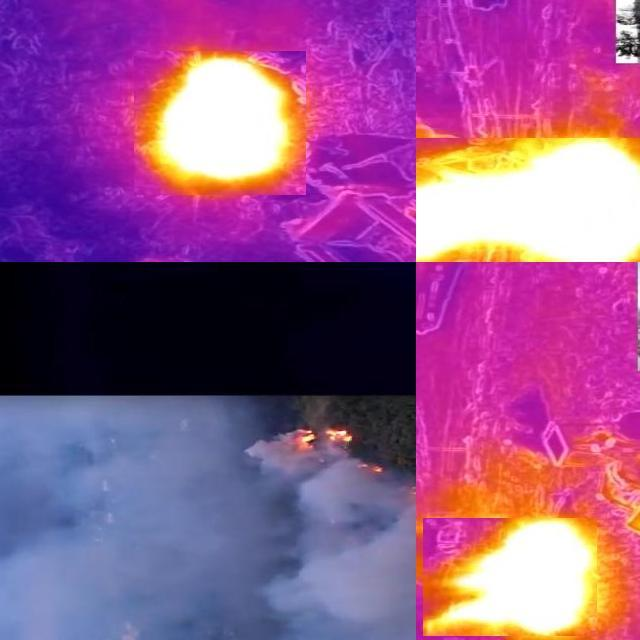fire: (417, 138, 640, 263), (135, 51, 307, 195), (424, 518, 598, 636)
